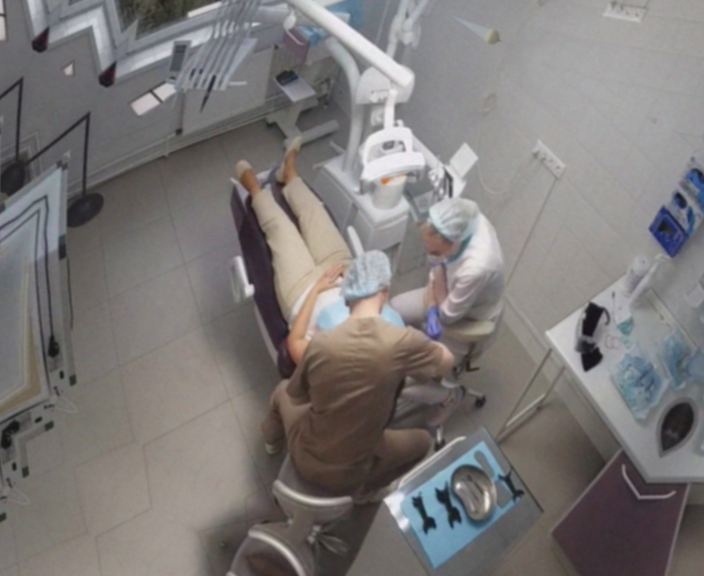Patient: (160, 114, 493, 431)
